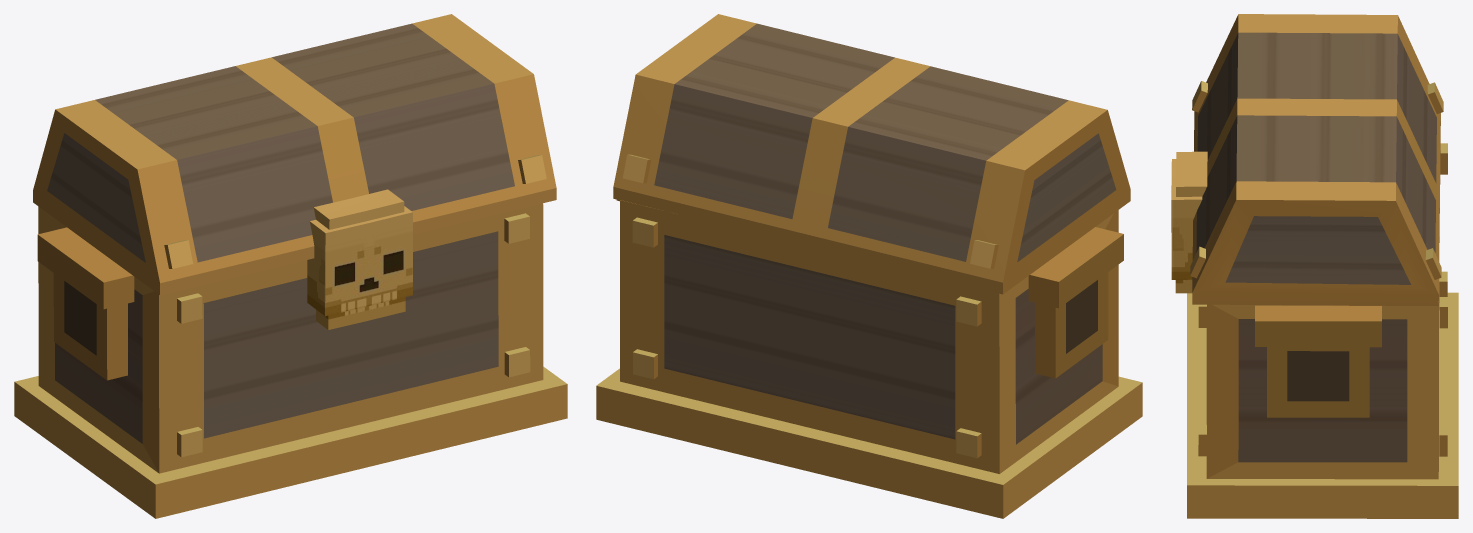
File: chest.glb
3 views of the same model, side by side, from view 1: azimuth 30°, elevation 25°; view 2: azimuth 150°, elevation 25°; view 3: azimuth 270°, elevation 25° (orthographic). The views are drawn at different scales.
Parts seen in each view (by area): view 1: SD_Prop_Chest_Skull_01, SD_Prop_Chest_Skull_Lid_01; view 2: SD_Prop_Chest_Skull_01, SD_Prop_Chest_Skull_Lid_01; view 3: SD_Prop_Chest_Skull_Lid_01, SD_Prop_Chest_Skull_01.
Boxes of the visible parts, <box> form: SD_Prop_Chest_Skull_01: <box>14,203,567,518</box>; SD_Prop_Chest_Skull_Lid_01: <box>33,14,556,329</box>; SD_Prop_Chest_Skull_01: <box>596,199,1142,518</box>; SD_Prop_Chest_Skull_Lid_01: <box>613,14,1130,294</box>; SD_Prop_Chest_Skull_Lid_01: <box>1171,14,1443,306</box>; SD_Prop_Chest_Skull_01: <box>1187,143,1458,518</box>.
Bounding box in the file's own units: 1.4 × 0.9837 × 0.8109.
Materials: 1 (1 with a texture image).
